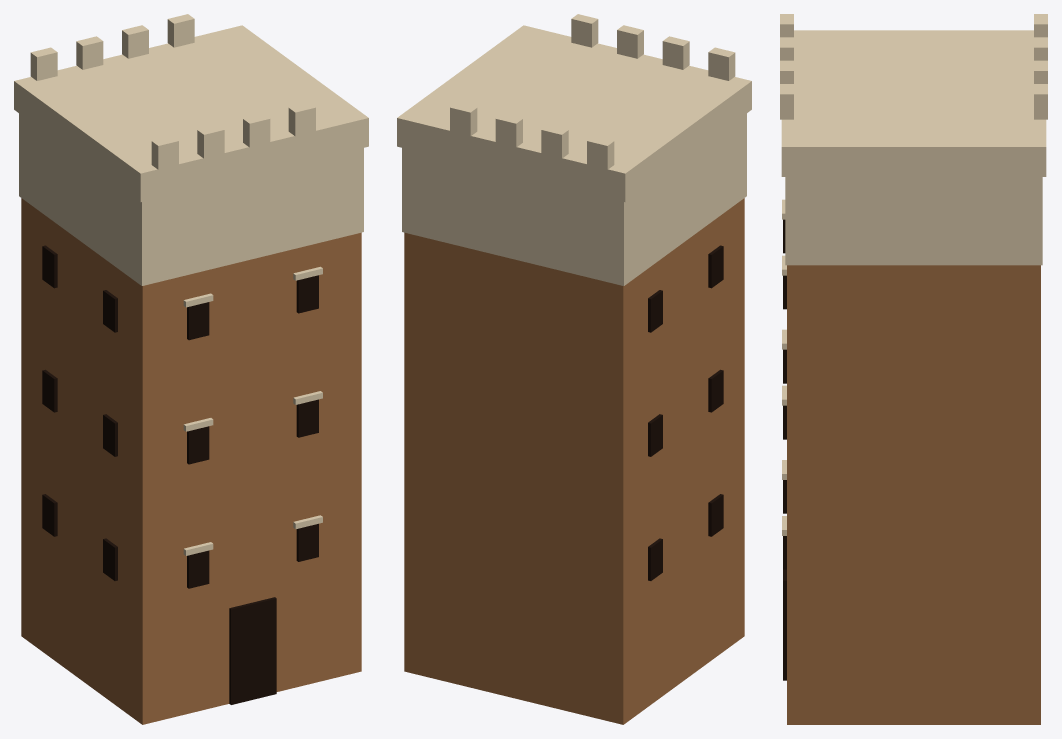
Rendered from tower_house_a.glb.
3 views of the same model, side by side, from view 1: azimuth 30°, elevation 25°; view 2: azimuth 150°, elevation 25°; view 3: azimuth 270°, elevation 25° (orthographic). The views are drawn at different scales.
Visible parts, largest first — view 1: TowerHouse; view 2: TowerHouse; view 3: TowerHouse.
Part boxes in pixels (x1,y1,x2,y2): TowerHouse: (14,14,368,724); TowerHouse: (397,14,751,724); TowerHouse: (780,14,1047,724).
Size of the model in its own units: 5 by 12.1 by 4.85.
